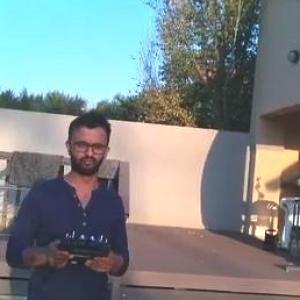follow: (0, 102, 135, 299)
